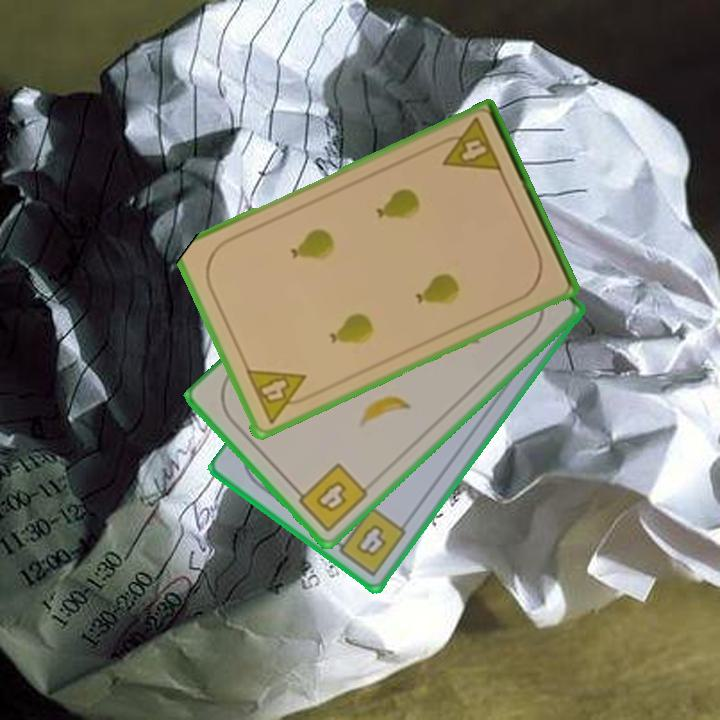4b: (328, 503, 410, 580), (289, 460, 371, 535)
4p: (242, 365, 316, 427), (432, 114, 505, 176)
